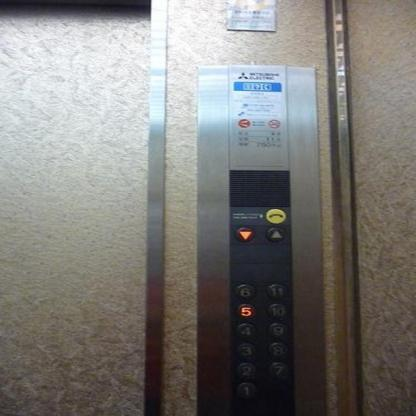1: (234, 381, 257, 398)
10: (265, 302, 288, 319)
11: (264, 282, 287, 300)
2: (234, 361, 257, 379)
3: (234, 341, 257, 359)
4: (234, 322, 257, 339)
5: (234, 302, 257, 320)
6: (233, 283, 256, 300)
7: (266, 361, 289, 378)
8: (266, 341, 289, 358)
9: (266, 321, 289, 339)
call: (263, 207, 286, 224)
down: (233, 225, 256, 242)
up: (263, 226, 286, 243)
